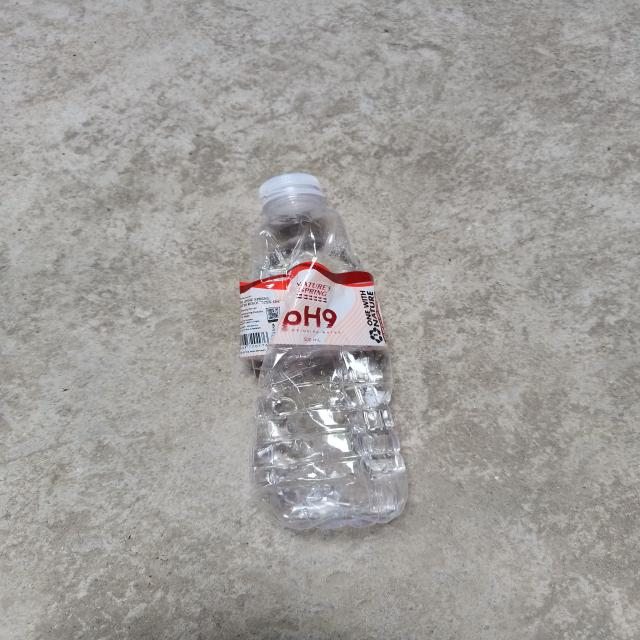Bottle: (241, 173, 408, 529)
